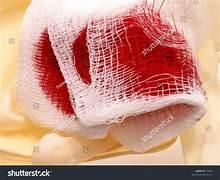cotton: (18, 0, 205, 150)
